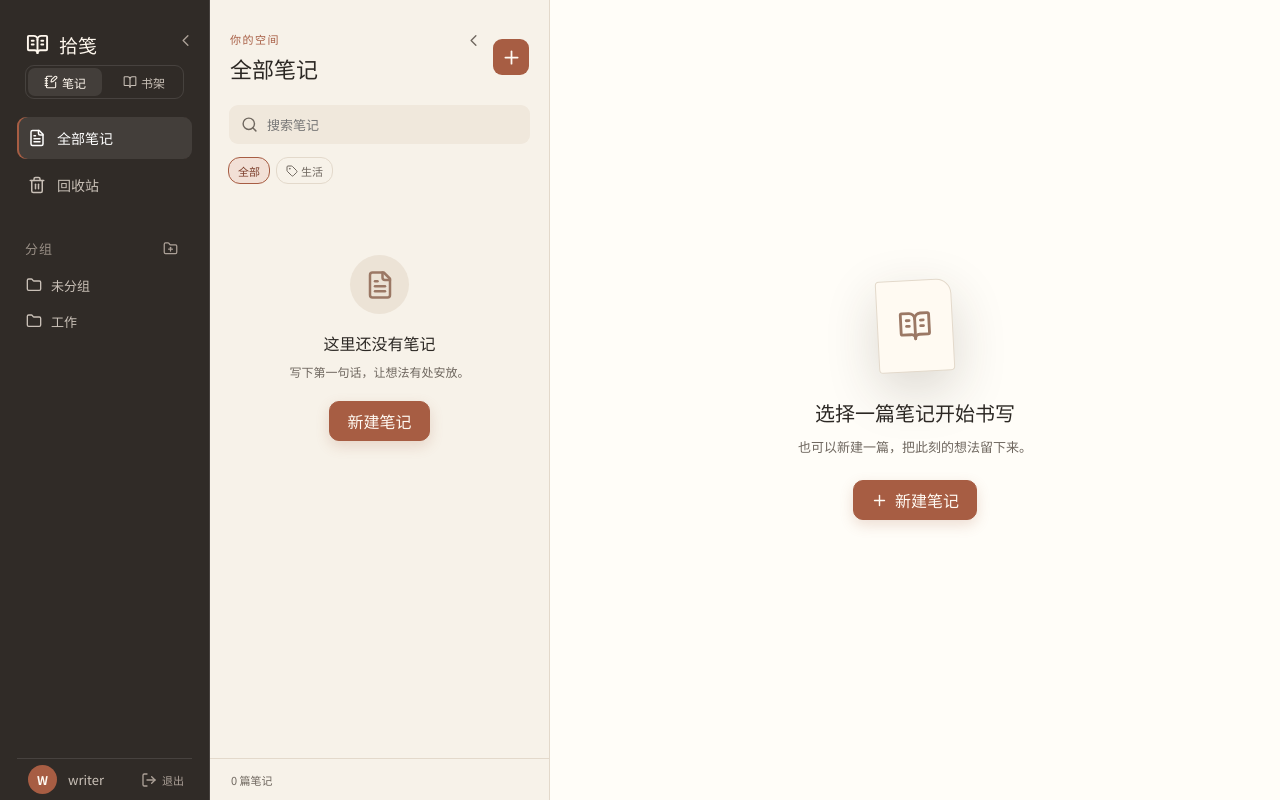
Test: NotebookPage › 新建笔记失败时显示明确反馈
Click the button "新建笔记" below "写下第一句话，让想法有处安放。": click(380, 421) [330,401,430,441]
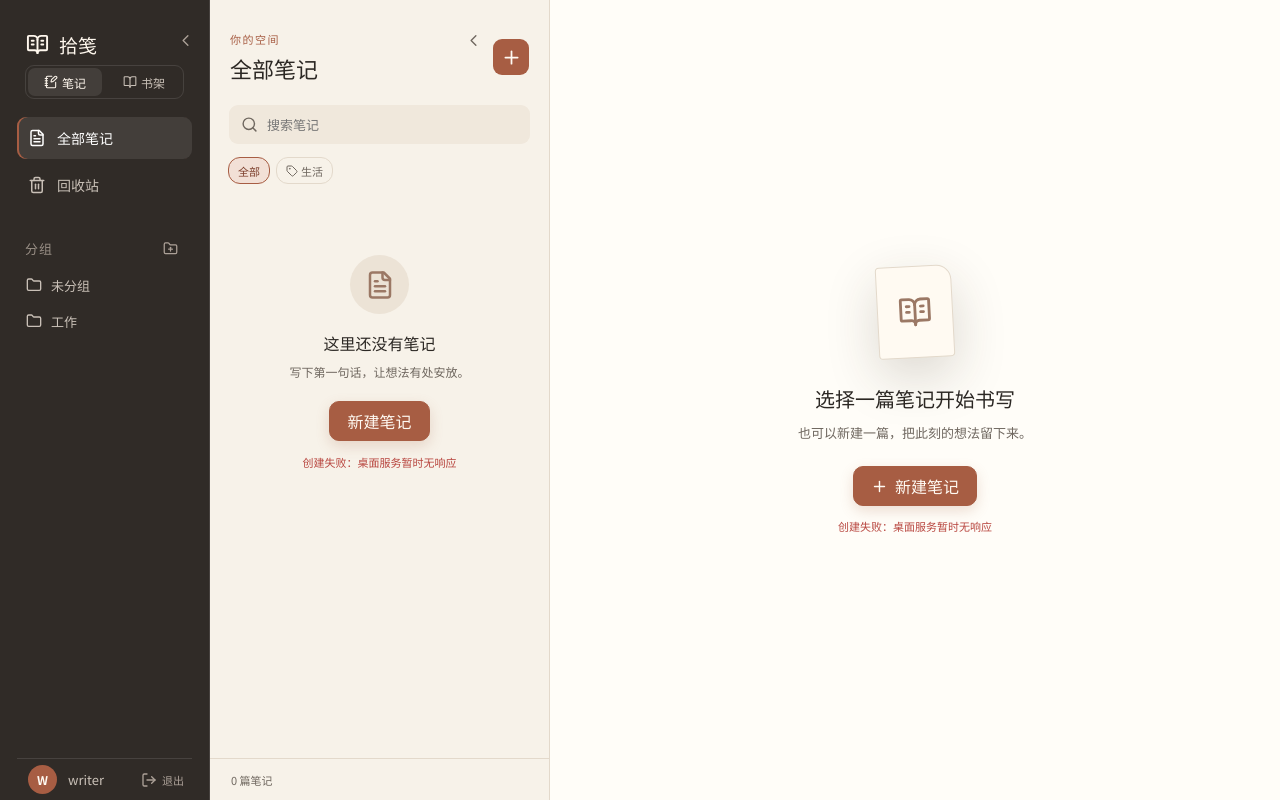
Result: the message "创建失败：桌面服务暂时无响应" below "写下第一句话，让想法有处安放。" is shown at [302,454,456,470]
